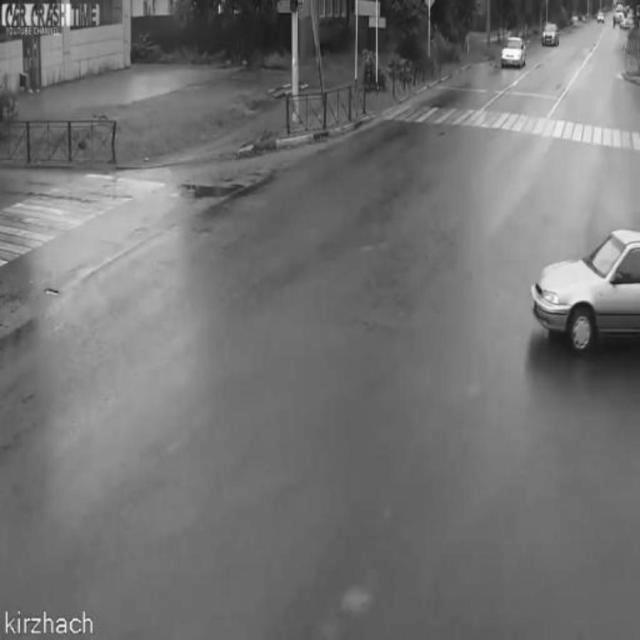vehicle: (532, 224, 640, 356), (500, 29, 526, 70), (542, 19, 560, 49)
